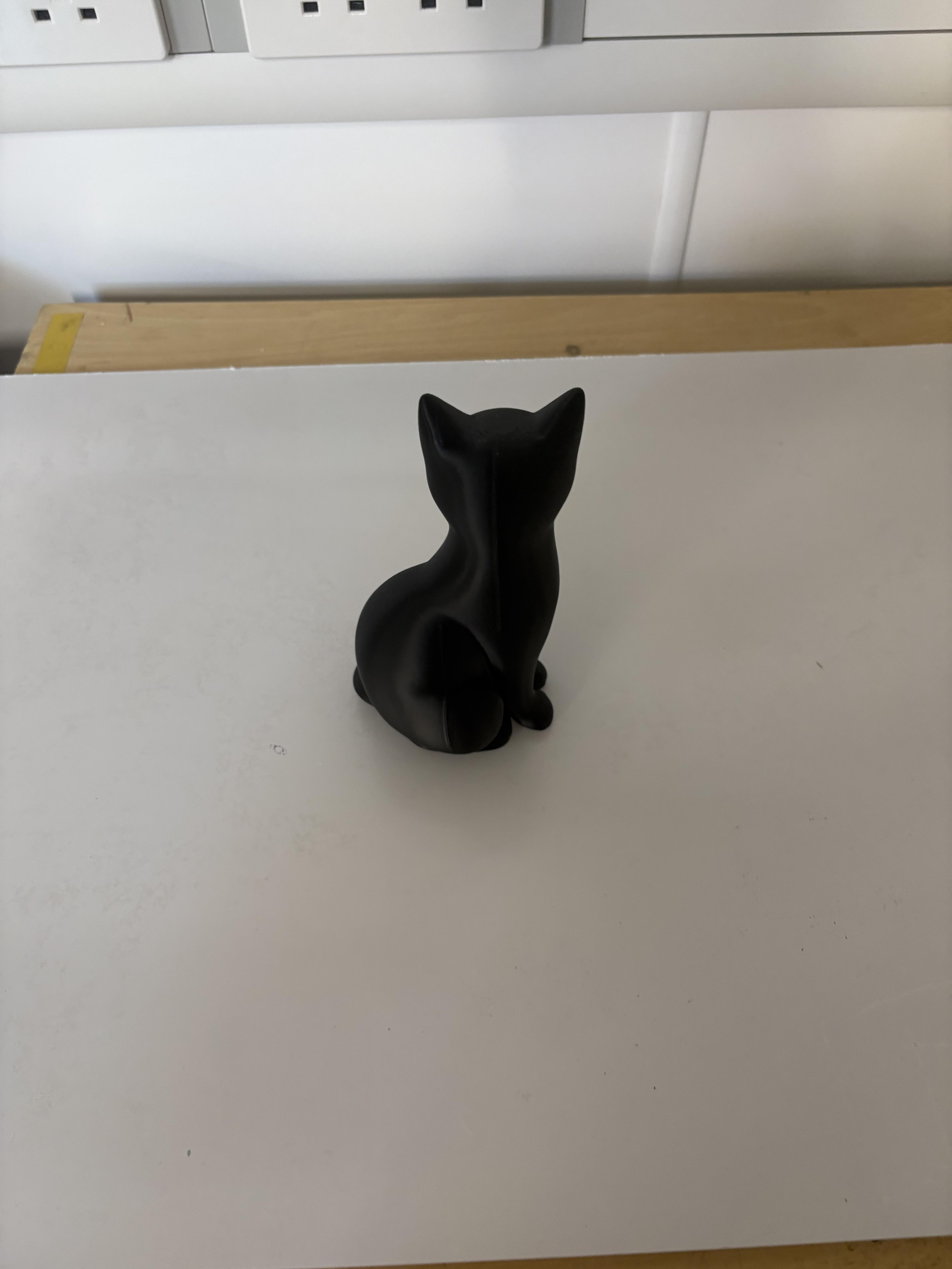cat: (354, 389, 584, 753)
